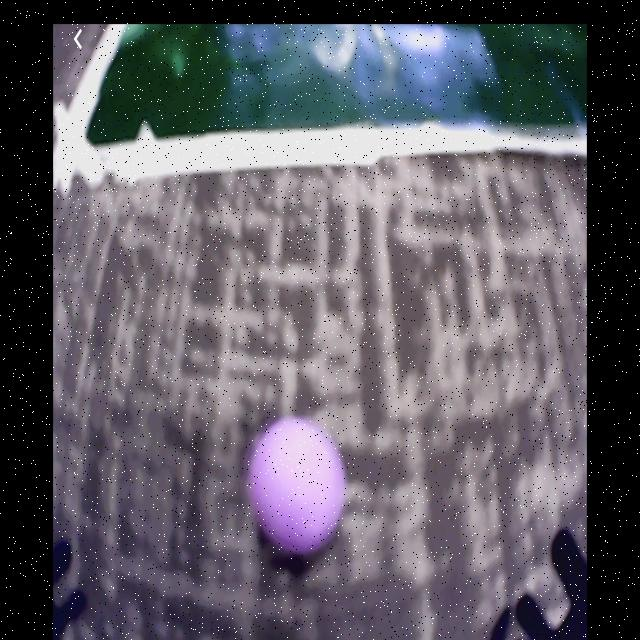ball: (250, 419, 346, 548)
